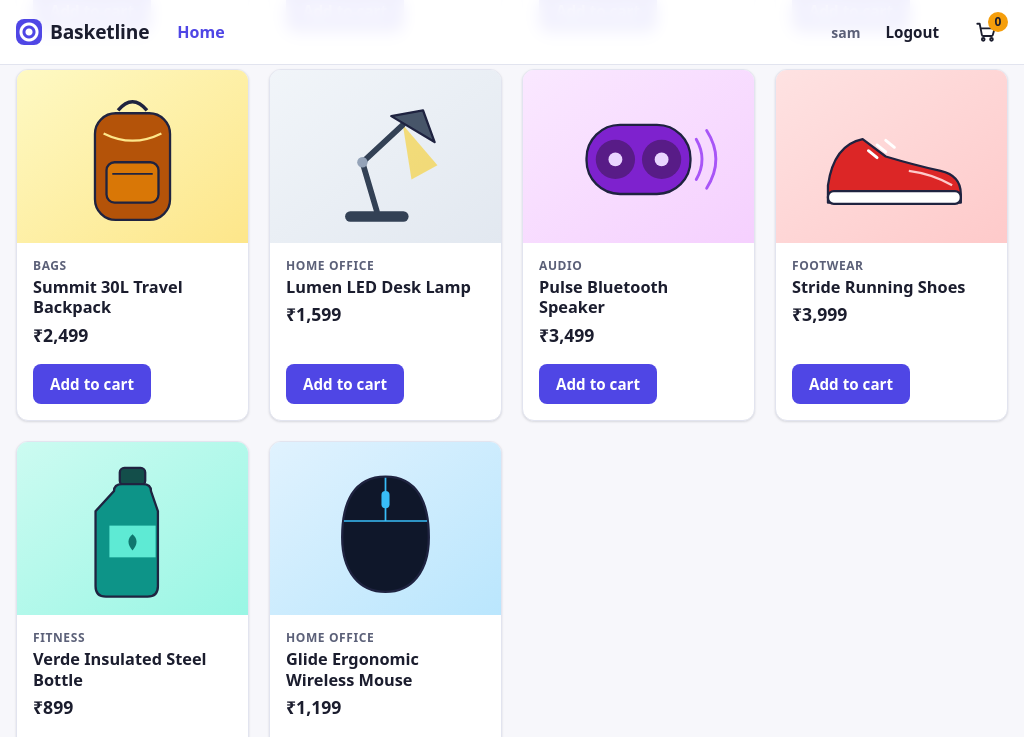
Test: product card cart controls › turns Add to cart into a "+N added" stepper, and back to Add to cart at 0
(page scrolled)
Step 1. Click the button with aria-label "Add Pulse Bluetooth Speaker to cart" → point(598, 384), box [539,364,657,404]
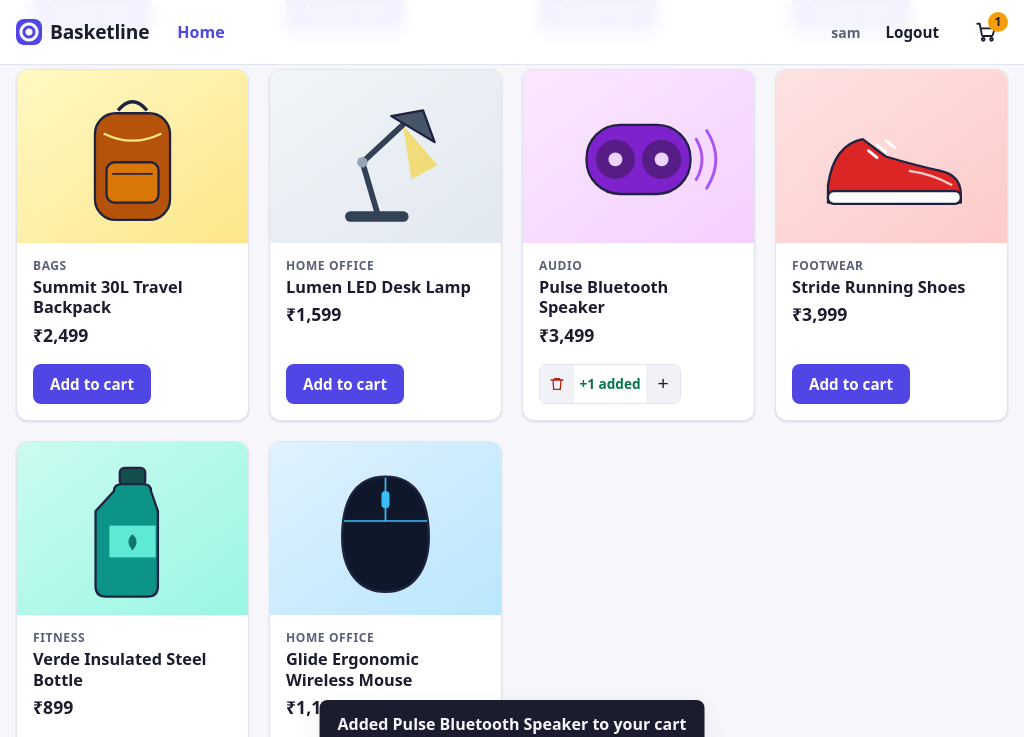
Expected: the text with test id "quantity" reads "+1 added", [579,374,641,393]
Step 2. Click the button named "Increase quantity of Pulse Bluetooth Speaker" → point(663, 384), box [646,365,680,403]
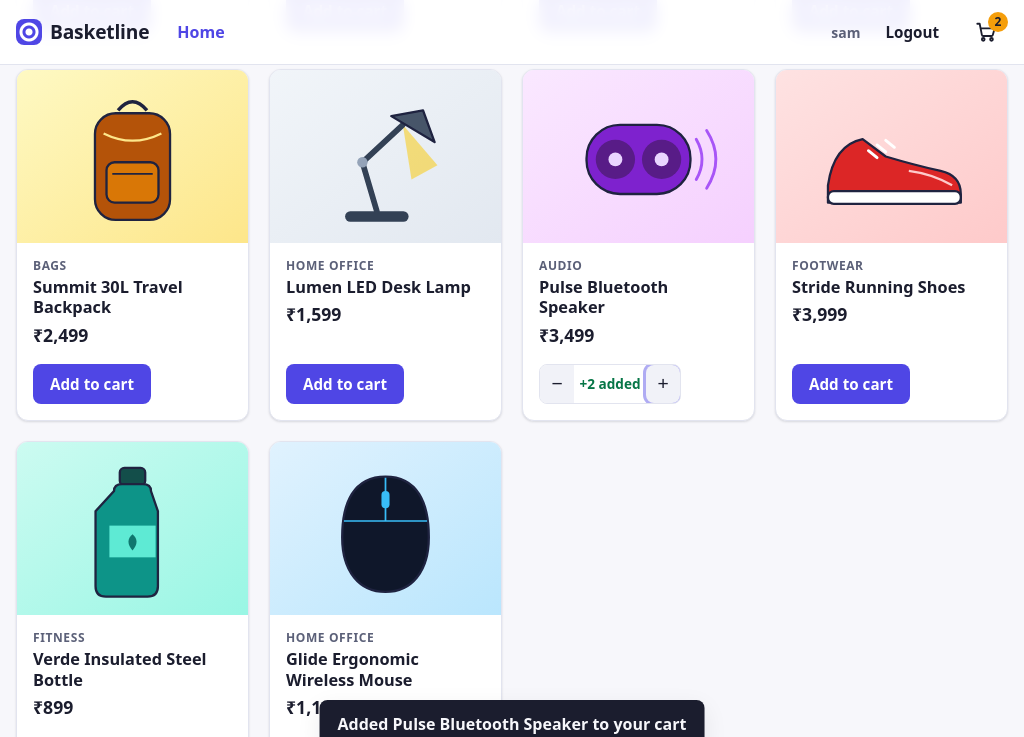
Expected: the text with test id "quantity" reads "+2 added", [579,374,641,393]
Expected: the text with test id "cart-badge" reads "2", [995,13,1002,30]
Step 3. Click the button named "Decrease quantity of Pulse Bluetooth Speaker" → point(557, 384), box [540,365,574,403]
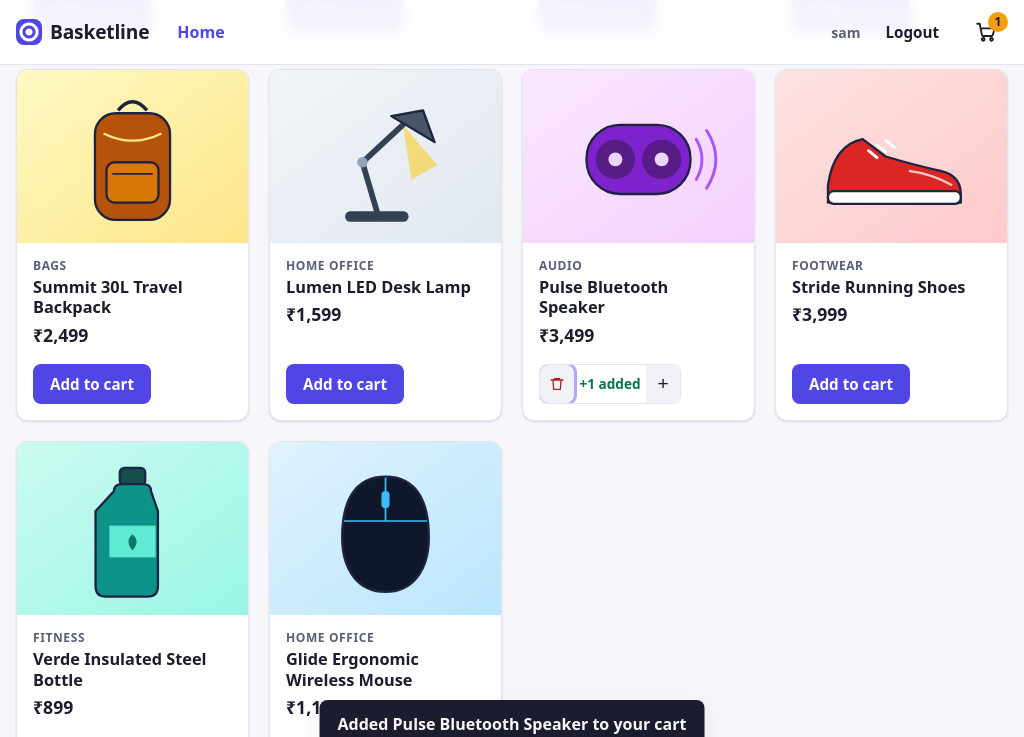
Expected: the text with test id "quantity" reads "+1 added", [579,374,641,393]
Step 4. Click the button named "Remove Pulse Bluetooth Speaker from cart" → point(557, 384), box [540,365,574,403]
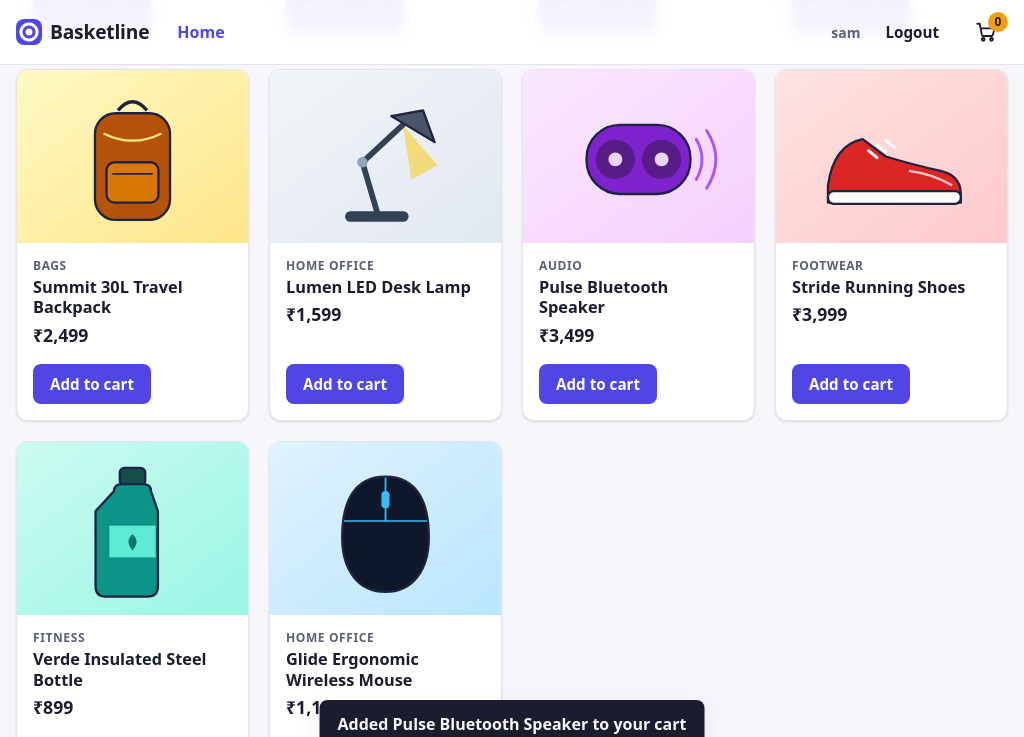
Expected: the button with aria-label "Add Pulse Bluetooth Speaker to cart" is shown, [539,364,657,404]
Expected: the text with test id "cart-badge" reads "0", [995,13,1002,30]
